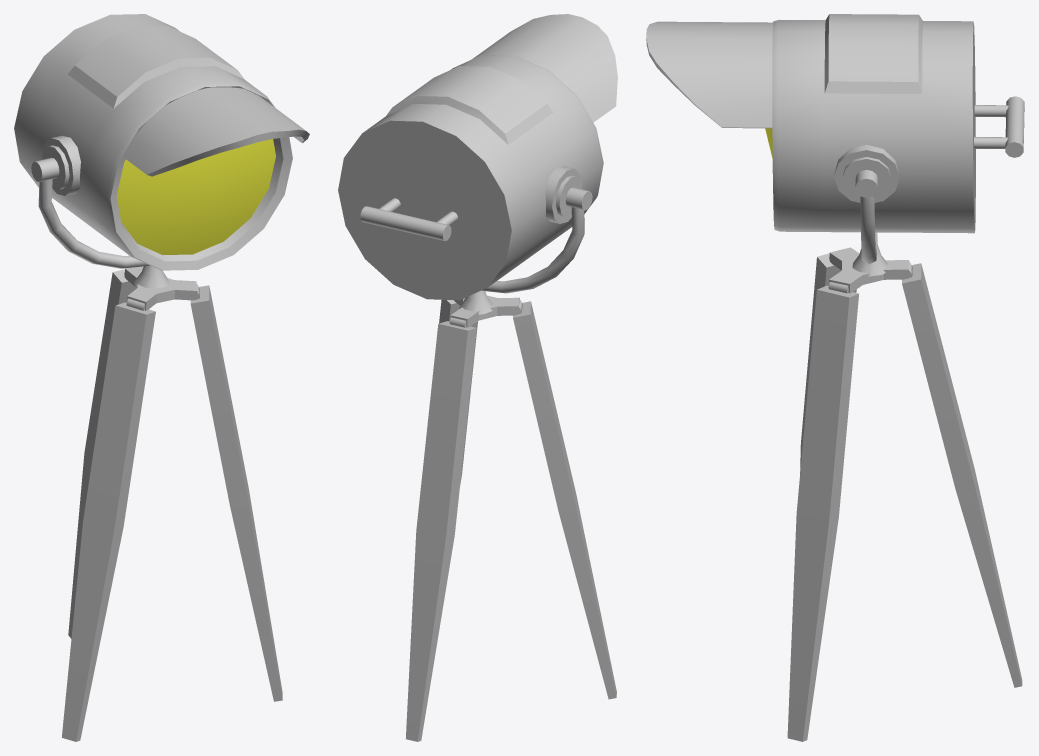
Rendered from SpotLight (1).FBX.
3 views of the same model, side by side, from view 1: azimuth 30°, elevation 25°; view 2: azimuth 150°, elevation 25°; view 3: azimuth 270°, elevation 25° (orthographic). The views are drawn at different scales.
Visible parts, largest first — view 1: UpDown, Spotlight, LeftRight; view 2: UpDown, Spotlight, LeftRight; view 3: UpDown, Spotlight, LeftRight.
Part boxes in pixels (x1,y1,x2,y2): UpDown: [14, 14, 309, 270]; Spotlight: [61, 266, 282, 741]; LeftRight: [38, 179, 169, 288]; UpDown: [338, 14, 617, 300]; Spotlight: [406, 295, 616, 741]; LeftRight: [459, 207, 584, 314]; UpDown: [646, 14, 1024, 233]; Spotlight: [787, 247, 1022, 741]; LeftRight: [852, 195, 887, 276].
Size of the model in its own units: 50.1 by 129 by 65.58.
